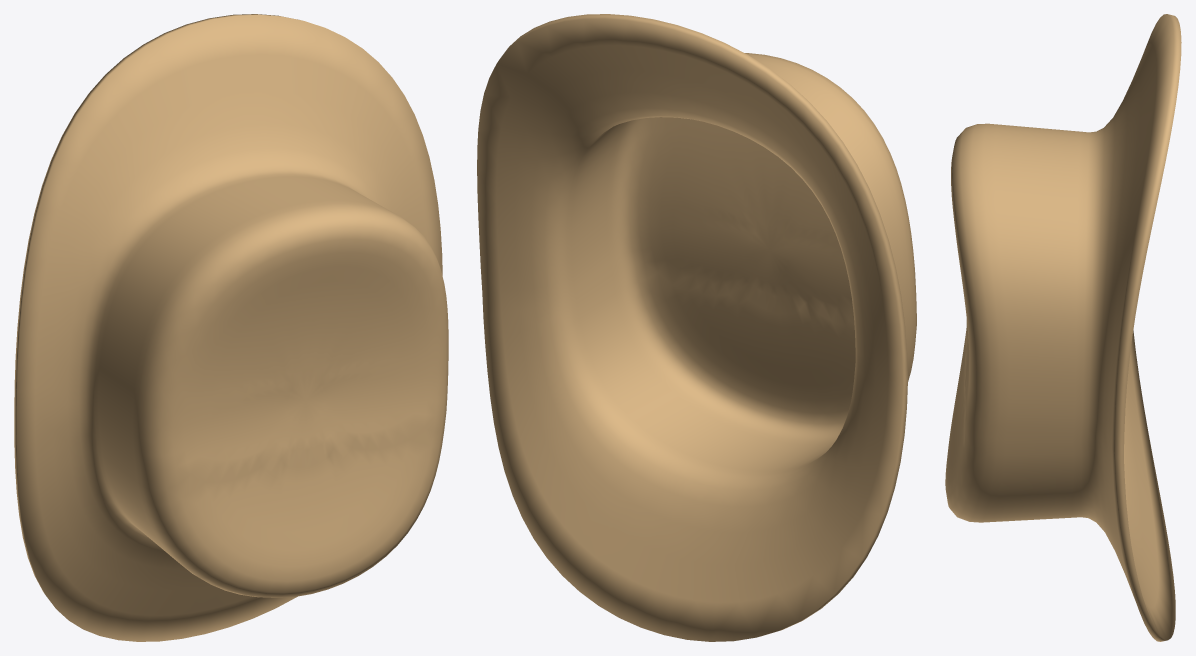
Rendered from Hat.dae.
3 views of the same model, side by side, from view 1: azimuth 30°, elevation 25°; view 2: azimuth 150°, elevation 25°; view 3: azimuth 270°, elevation 25° (orthographic). The views are drawn at different scales.
Visible parts, largest first — view 1: Hat; view 2: Hat; view 3: Hat.
Part boxes in pixels (left/top/right/bottom): Hat: left=14, top=14, right=448, bottom=641; Hat: left=477, top=14, right=916, bottom=641; Hat: left=945, top=14, right=1181, bottom=641.
Size of the model in its own units: 16.17 by 22.19 by 8.14.
